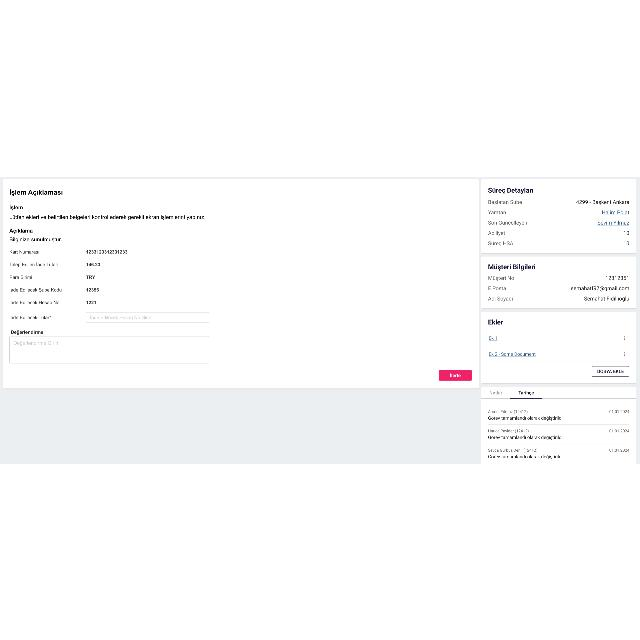QLabel: (8, 212, 206, 220), (8, 187, 64, 196), (486, 186, 536, 194), (486, 262, 536, 270), (570, 285, 630, 291), (8, 286, 62, 292), (8, 235, 62, 241), (575, 198, 629, 204), (8, 298, 60, 304), (486, 454, 564, 458), (488, 434, 564, 438), (8, 260, 58, 266), (582, 295, 632, 301), (488, 416, 562, 420), (86, 248, 128, 254), (487, 219, 527, 225), (488, 408, 528, 414), (488, 198, 522, 204), (8, 248, 42, 254), (596, 219, 630, 225), (487, 448, 537, 452), (488, 352, 536, 356), (8, 314, 52, 318), (601, 209, 629, 215), (488, 428, 528, 432), (488, 274, 514, 280), (487, 240, 513, 246), (605, 274, 629, 280), (11, 330, 44, 334), (487, 284, 508, 290), (488, 208, 507, 214), (596, 368, 624, 372), (8, 228, 34, 232), (488, 296, 514, 300), (8, 203, 24, 209), (8, 274, 32, 278), (488, 319, 504, 325), (608, 409, 630, 413), (608, 428, 630, 432), (608, 447, 630, 451), (86, 260, 100, 266), (488, 230, 507, 234), (518, 390, 534, 394), (450, 372, 460, 378), (85, 287, 99, 291), (489, 390, 503, 394), (85, 300, 96, 304), (86, 274, 96, 278), (488, 336, 498, 340), (623, 230, 629, 234), (624, 240, 630, 244)
VBtn: (592, 366, 630, 376), (438, 370, 472, 380)
VCard: (2, 177, 480, 389), (481, 178, 637, 252), (482, 311, 636, 383), (481, 256, 637, 308)
VDivider: (488, 422, 630, 426), (486, 344, 630, 346), (488, 442, 630, 444), (490, 360, 628, 362)
VIcon: (624, 335, 626, 339), (623, 351, 625, 355)
VTabs: (482, 386, 636, 464)
VTextField: (86, 311, 210, 323)
VTextarea: (9, 335, 209, 363)
